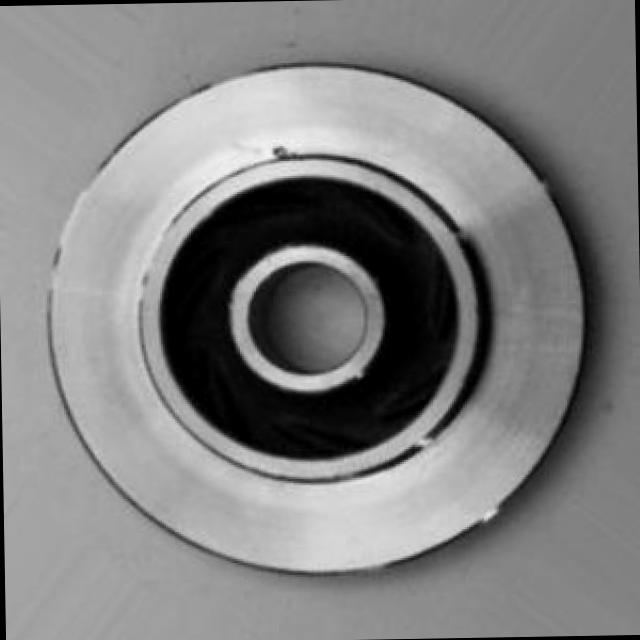Defect: (262, 135, 299, 170)
